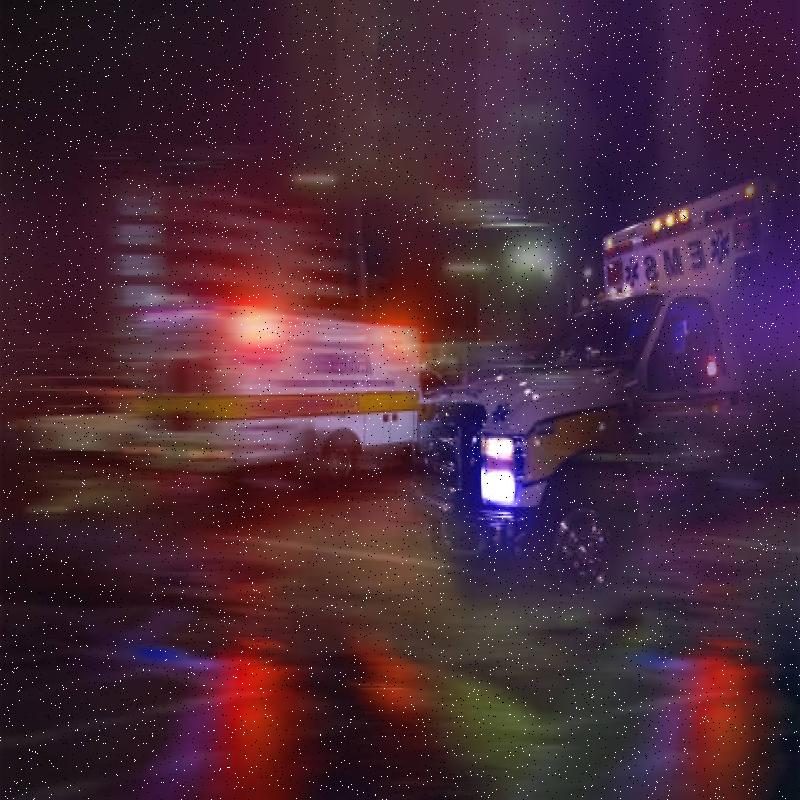AmbulanceSiren: (608, 164, 768, 288)
